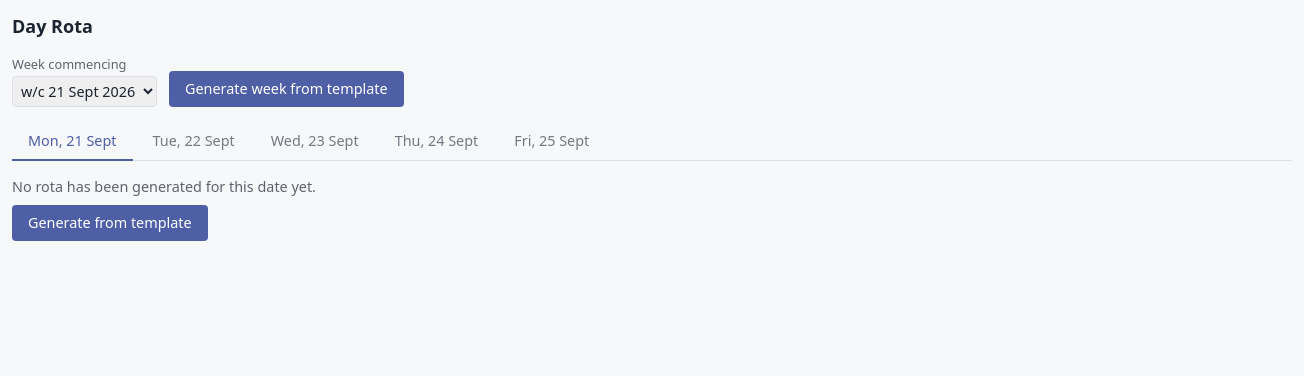
Scenario: ReceptionDayPage › surfaces an assignment failure in the day's error banner, keeping the generated day
This screenshot has width=1304, height=376.
Click the button "Generate from template".
click(110, 223)  # box [12, 205, 208, 241]
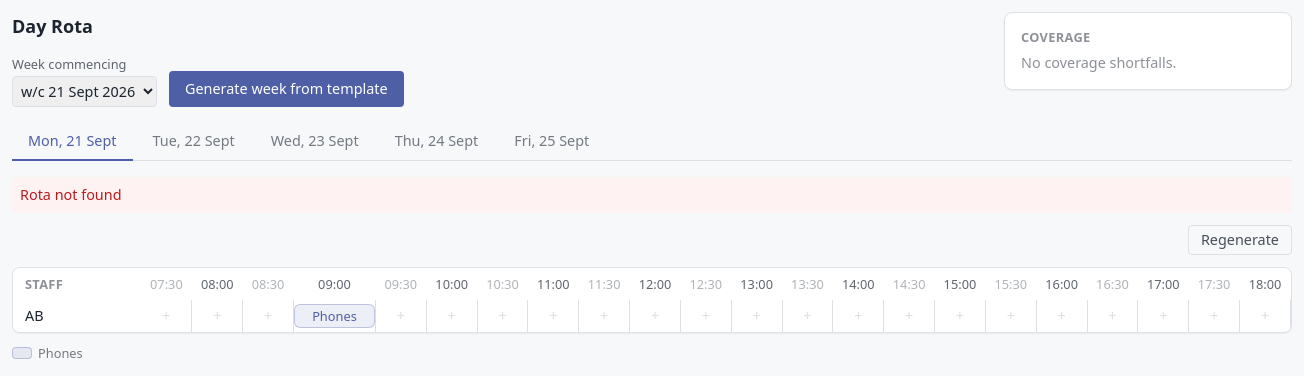
Expected: the text "Rota not found" is shown, [12, 177, 1292, 213]
Expected: the cell with test id "reception-cell-1-9" is shown, [294, 300, 376, 332]
